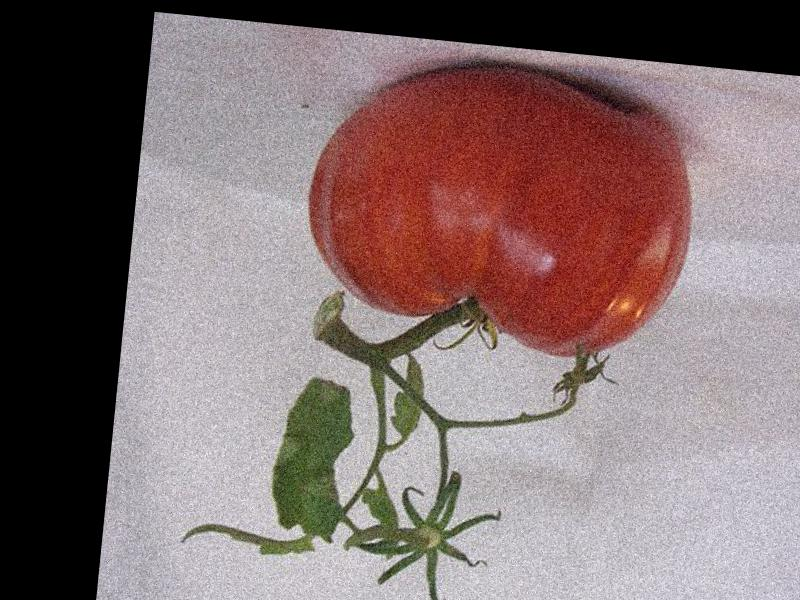Tomato: (294, 47, 705, 367)
